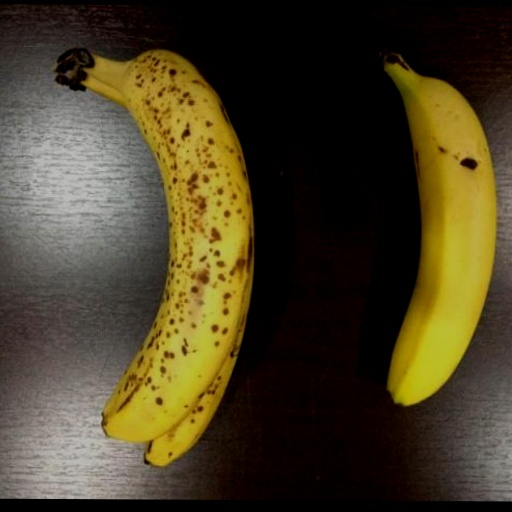fruit: (55, 49, 253, 463), (380, 50, 495, 404)
